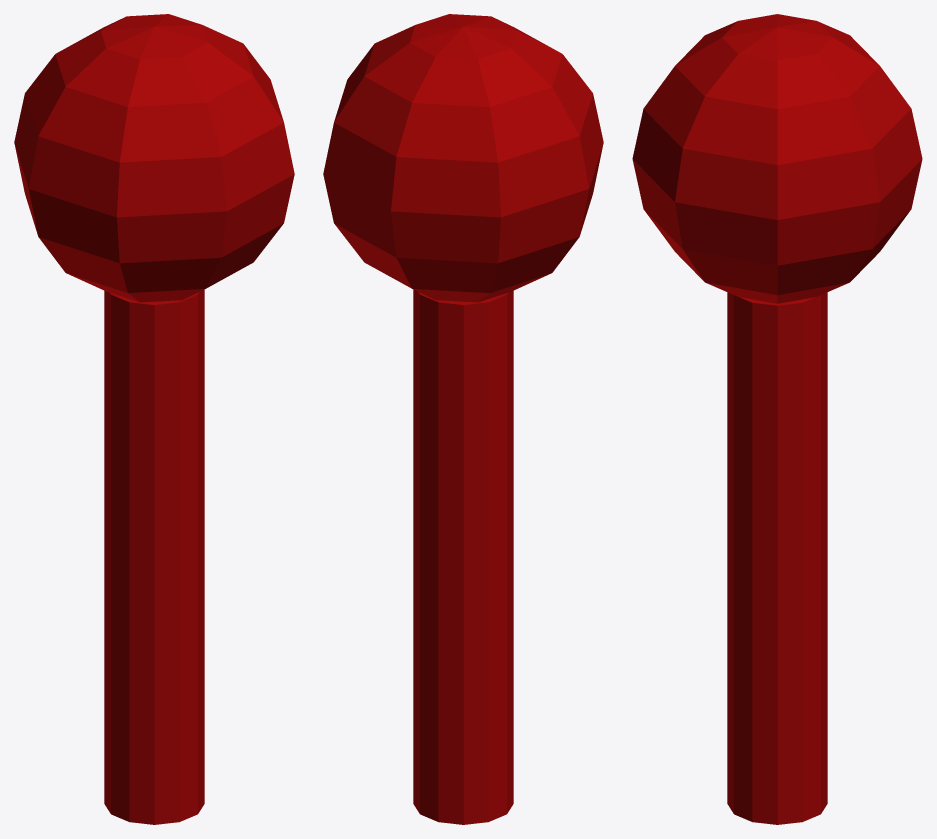
The model's file is SM_Lever.fbx.
3 views of the same model, side by side, from view 1: azimuth 30°, elevation 25°; view 2: azimuth 150°, elevation 25°; view 3: azimuth 270°, elevation 25° (orthographic).
Parts seen in each view (by area): view 1: SM_Lever; view 2: SM_Lever; view 3: SM_Lever.
Boxes of the visible parts, x1,y1,x2,y2 form: SM_Lever: [14, 14, 294, 824]; SM_Lever: [323, 14, 603, 824]; SM_Lever: [632, 14, 922, 824].
Size of the model in its own units: 14.07 by 41.55 by 14.07.
